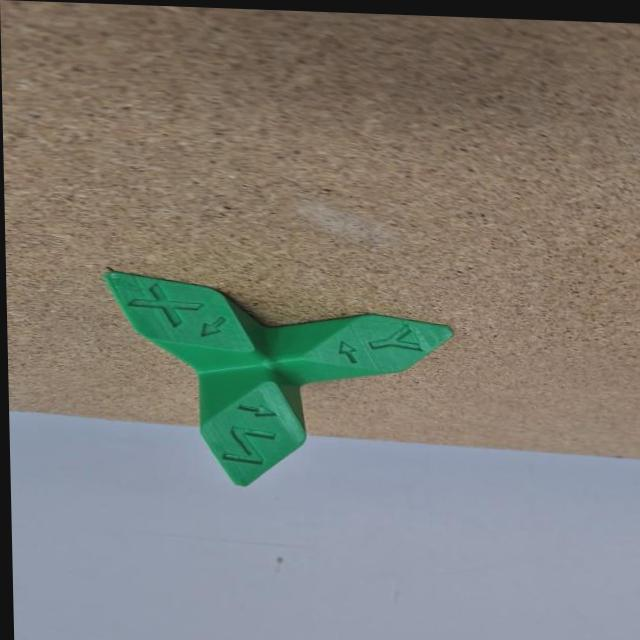eje: (94, 266, 467, 501)
